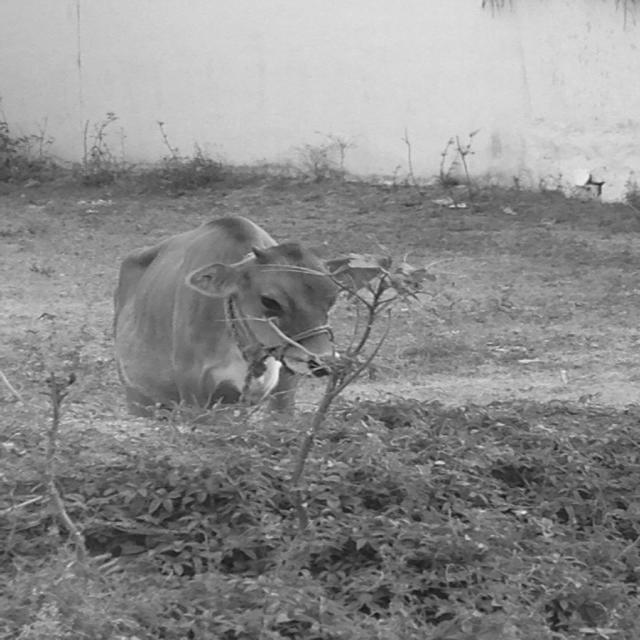cow: (114, 216, 341, 409)
